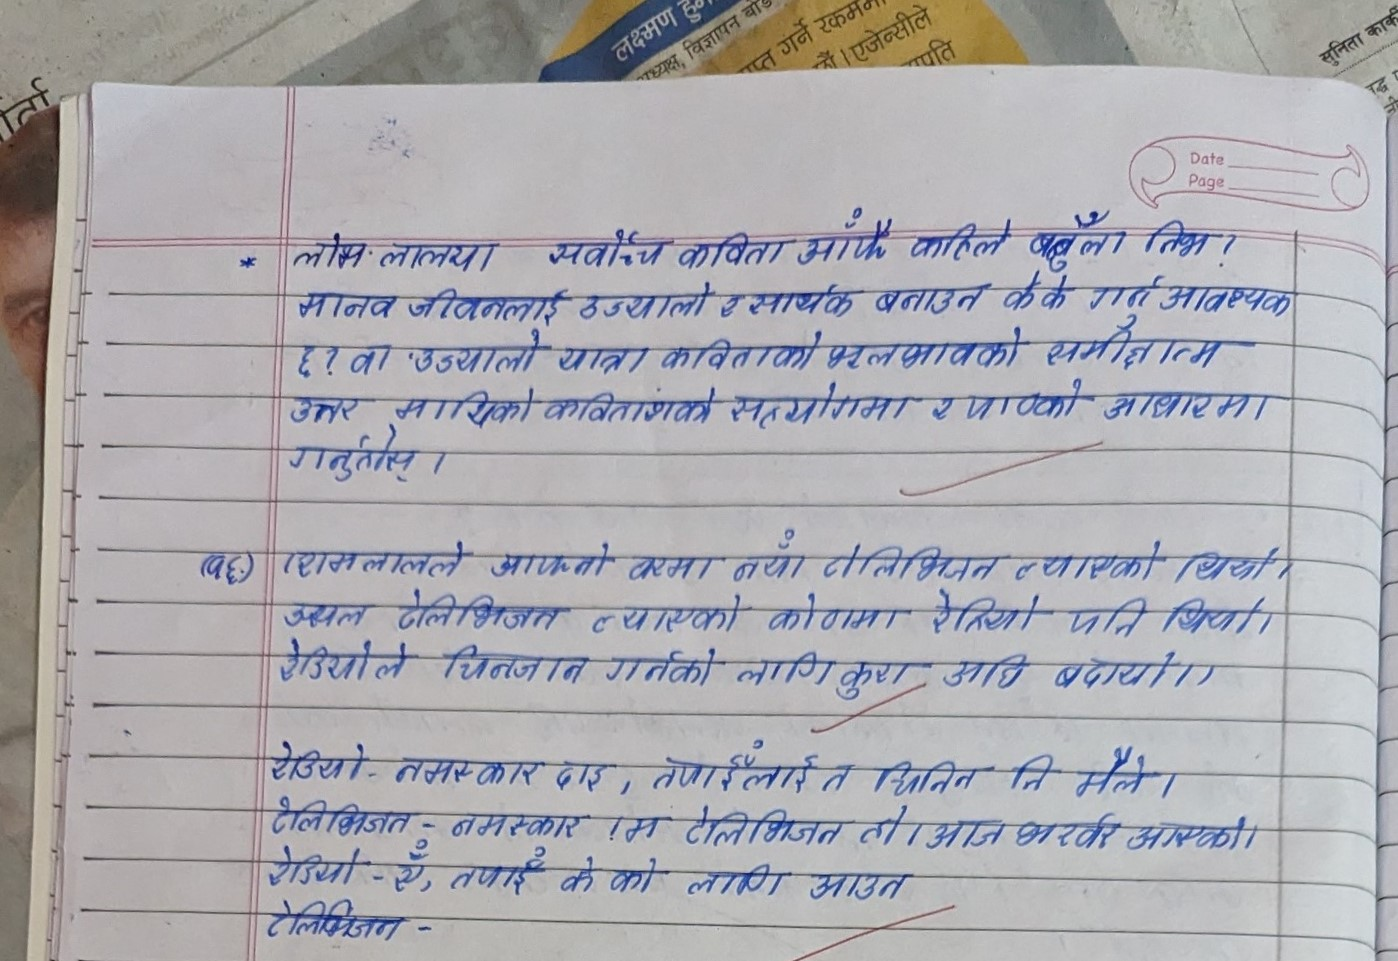text: (826, 324, 1023, 372), (272, 432, 425, 493), (291, 529, 468, 581), (648, 743, 817, 797), (1041, 325, 1225, 372), (730, 382, 910, 428), (823, 538, 1001, 584), (684, 801, 842, 851), (1099, 383, 1271, 429), (391, 588, 563, 632), (248, 897, 409, 943), (591, 590, 747, 637), (275, 636, 411, 689), (412, 282, 564, 328), (660, 334, 822, 377), (543, 383, 713, 423), (1011, 538, 1164, 582), (1055, 643, 1180, 697), (764, 594, 911, 638), (873, 747, 995, 800), (393, 747, 538, 791), (273, 796, 413, 842), (1124, 808, 1249, 859), (580, 277, 709, 326), (396, 385, 536, 429), (410, 328, 538, 376), (968, 377, 1085, 429), (1026, 208, 1122, 271), (533, 225, 671, 268), (488, 533, 612, 580), (438, 643, 584, 683), (792, 209, 894, 265), (603, 641, 720, 690), (1166, 275, 1291, 321), (382, 231, 498, 280), (923, 590, 1053, 634), (449, 804, 584, 845), (447, 848, 547, 904), (905, 216, 1012, 267), (864, 273, 986, 318), (1071, 742, 1160, 801), (687, 857, 791, 907), (836, 648, 930, 701), (265, 735, 366, 782), (678, 225, 783, 270), (1017, 806, 1119, 852), (803, 864, 916, 905), (1176, 543, 1279, 586), (748, 276, 853, 318), (1164, 594, 1264, 637), (291, 284, 398, 324), (1091, 271, 1164, 328), (732, 528, 807, 583), (265, 843, 360, 887), (547, 338, 650, 378), (735, 648, 834, 689), (625, 543, 721, 584), (936, 653, 1033, 694), (288, 226, 370, 275), (1068, 590, 1147, 639), (924, 814, 1010, 855), (1143, 217, 1213, 265), (279, 594, 366, 628), (553, 742, 610, 794), (284, 390, 362, 426), (1005, 752, 1064, 797), (607, 852, 664, 896), (197, 537, 246, 587), (860, 801, 908, 847), (395, 843, 436, 895), (349, 336, 395, 379), (559, 850, 600, 896), (820, 756, 860, 803), (286, 332, 323, 379), (623, 802, 665, 842), (1002, 269, 1039, 311), (1040, 272, 1071, 315), (930, 383, 959, 426), (718, 281, 741, 324)
